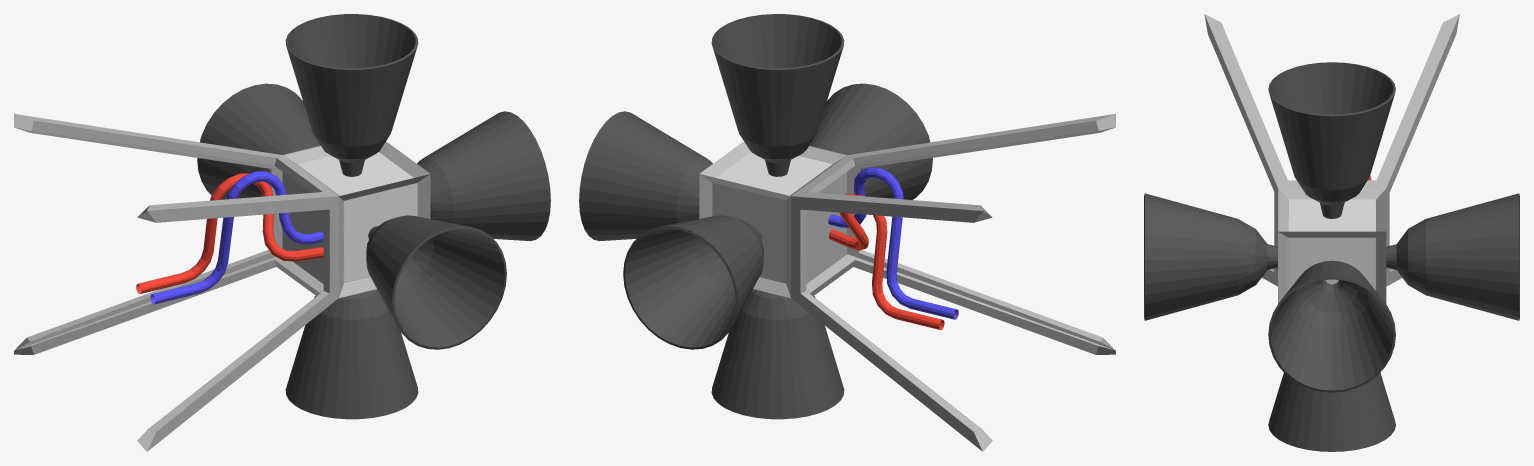
The model's file is RCS.fbx.
3 views of the same model, side by side, from view 1: azimuth 30°, elevation 25°; view 2: azimuth 150°, elevation 25°; view 3: azimuth 270°, elevation 25° (orthographic). The views are drawn at different scales.
Parts seen in each view (by area): view 1: RCS; view 2: RCS; view 3: RCS.
Part boxes in pixels (left/top/right/bottom): RCS: left=14, top=14, right=550, bottom=451; RCS: left=579, top=14, right=1115, bottom=451; RCS: left=1144, top=14, right=1519, bottom=451.
Bounding box in the file's own units: 0.9614 × 0.7276 × 0.7351.
Materials: 1 (1 with a texture image).
